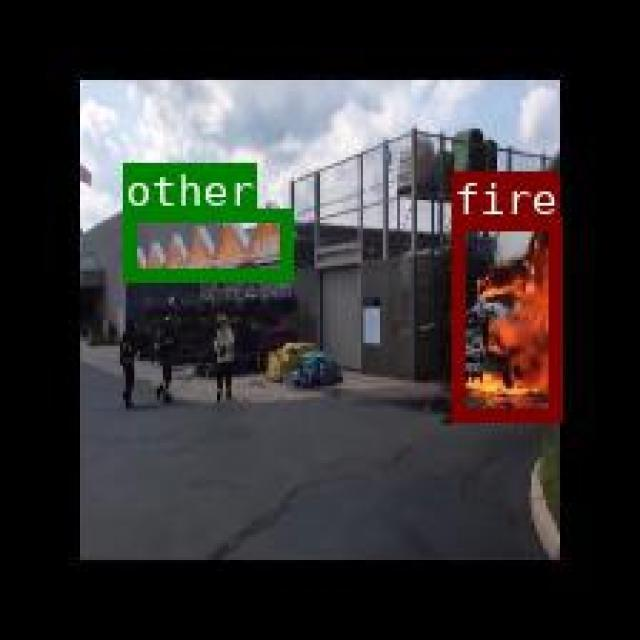fire: (451, 216, 558, 420)
